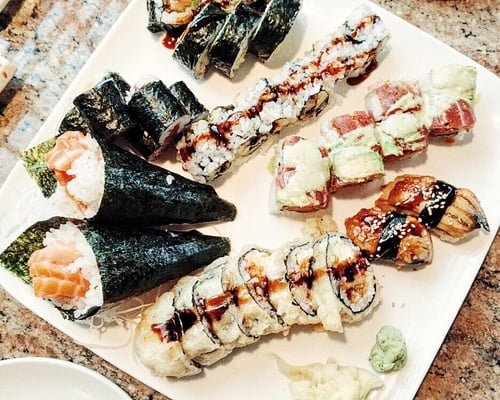sushi: (0, 356, 132, 400)
